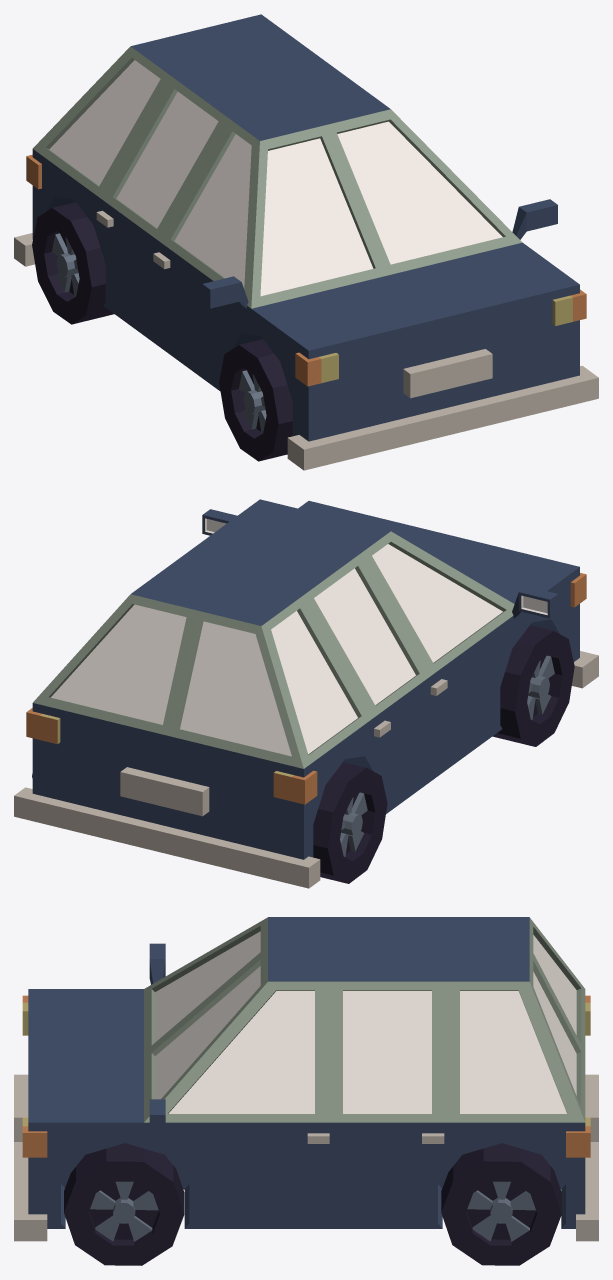
File: car 5.fbx
3 renders of one model, top to bottom at view 1: azimuth 30°, elevation 25°; view 2: azimuth 150°, elevation 25°; view 3: azimuth 270°, elevation 25°, orthographic.
Visible parts, largest first — view 1: car 3; view 2: car 3; view 3: car 3.
Boxes of the visible parts, bbox=[...] form: car 3: bbox=[14, 14, 598, 470]; car 3: bbox=[14, 499, 598, 888]; car 3: bbox=[14, 917, 598, 1265].
Size of the model in its own units: 235 by 156 by 340.
